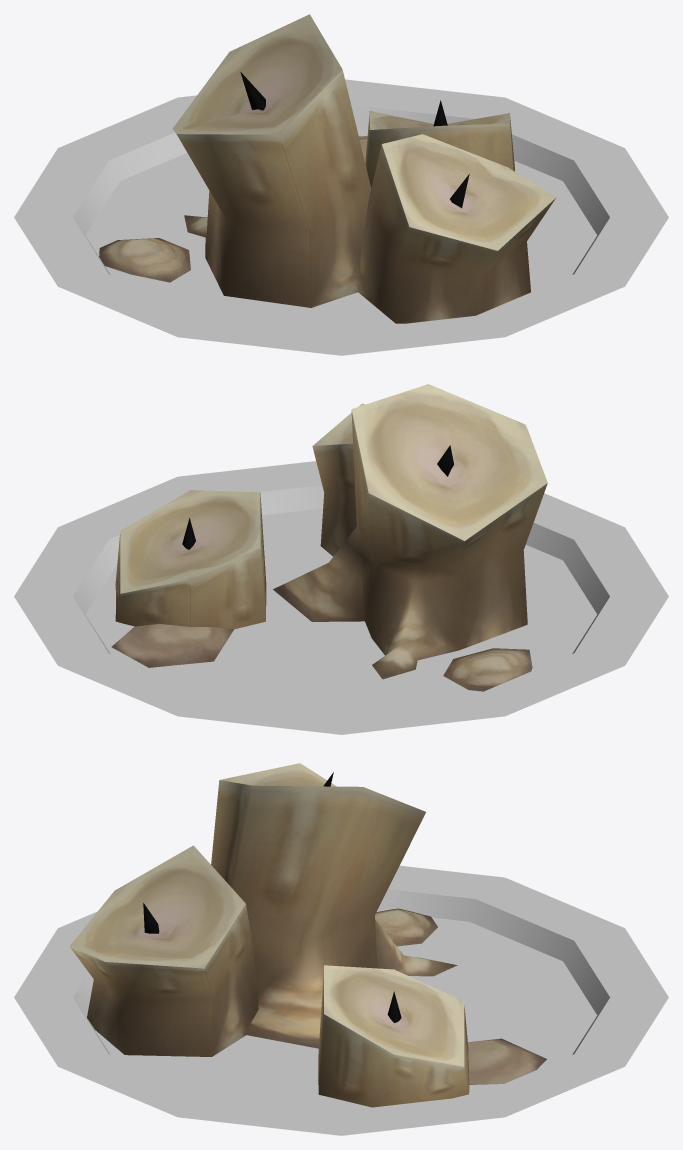
File: candle_arrangement_03.fbx
3 views of the same model, one above another, from view 1: azimuth 30°, elevation 25°; view 2: azimuth 150°, elevation 25°; view 3: azimuth 270°, elevation 25° (orthographic).
Visible parts, largest first — view 1: candles, plate2; view 2: candles, plate2; view 3: candles, plate2.
Part boxes in pixels (x1=…): candles: x1=99, y1=14, x2=556, y2=323; plate2: x1=14, y1=79, x2=668, y2=355; candles: x1=111, y1=384, x2=547, y2=691; plate2: x1=14, y1=461, x2=668, y2=734; candles: x1=69, y1=763, x2=546, y2=1107; plate2: x1=14, y1=865, x2=668, y2=1135.
Bounding box in the file's own units: 26.84 × 10.21 × 26.84.
